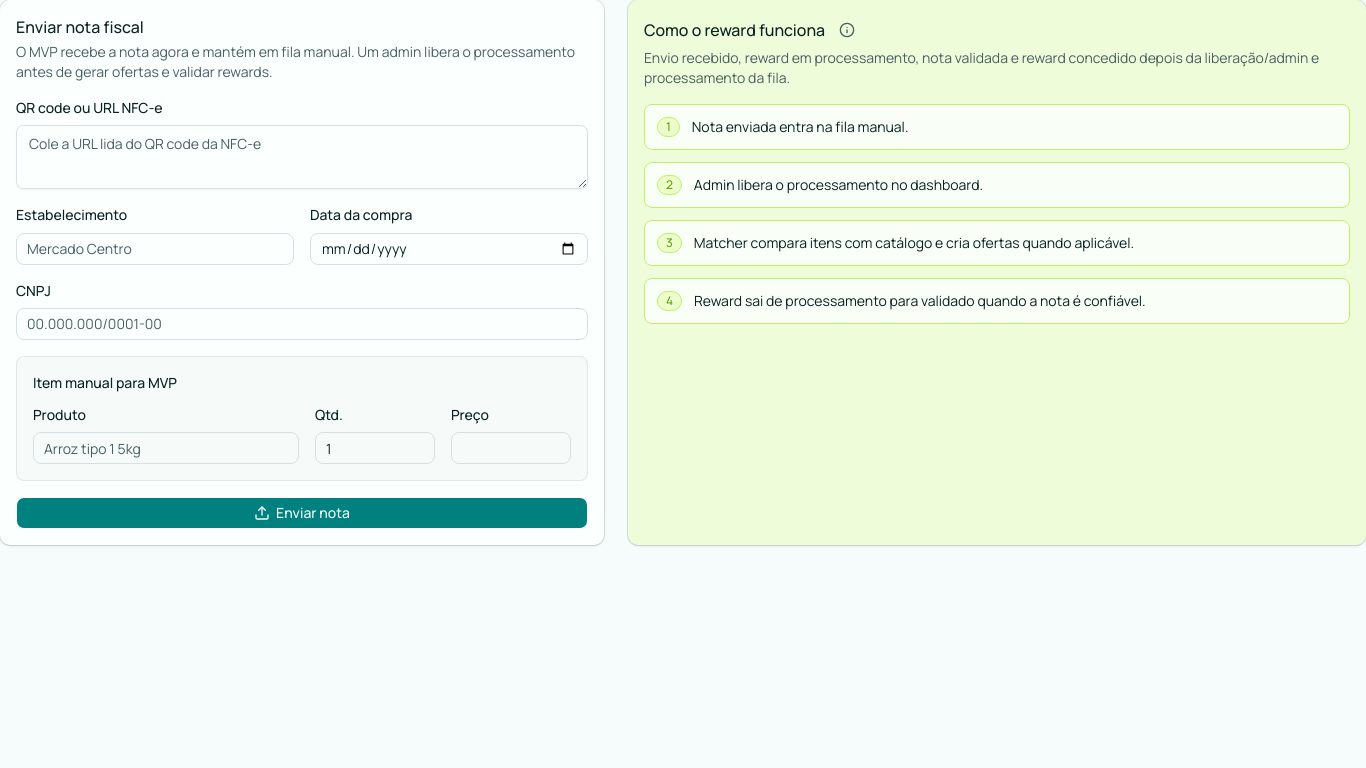
Test: public pages › shows granted receipt reward points and optimization credit
The width and height of the screenshot is (1366, 768).
Step 1. Type "Mercado Validado" into the field labelled "Estabelecimento" → (155, 248), box [16,232,294,264]
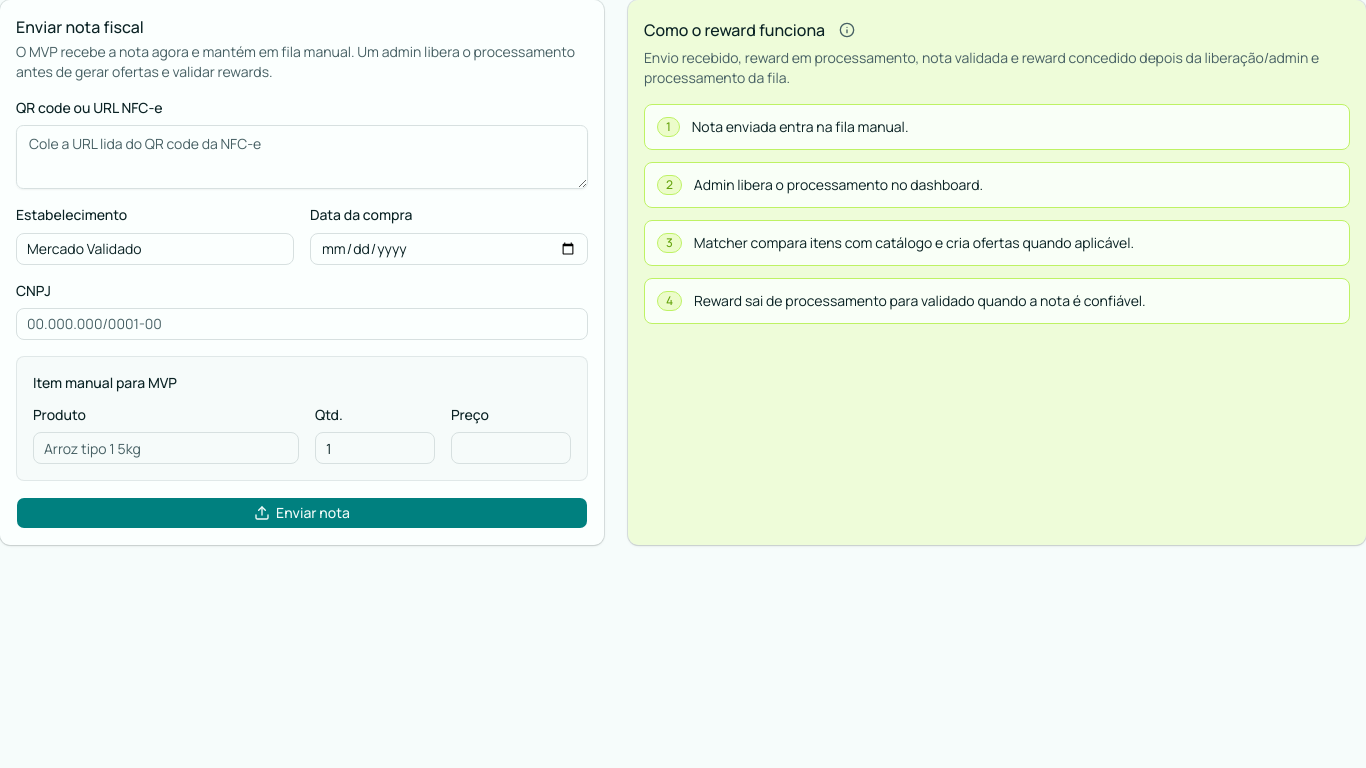
Step 2. Type "Cafe torrado" into the field labelled "Produto" → (166, 448), box [33,432,299,464]
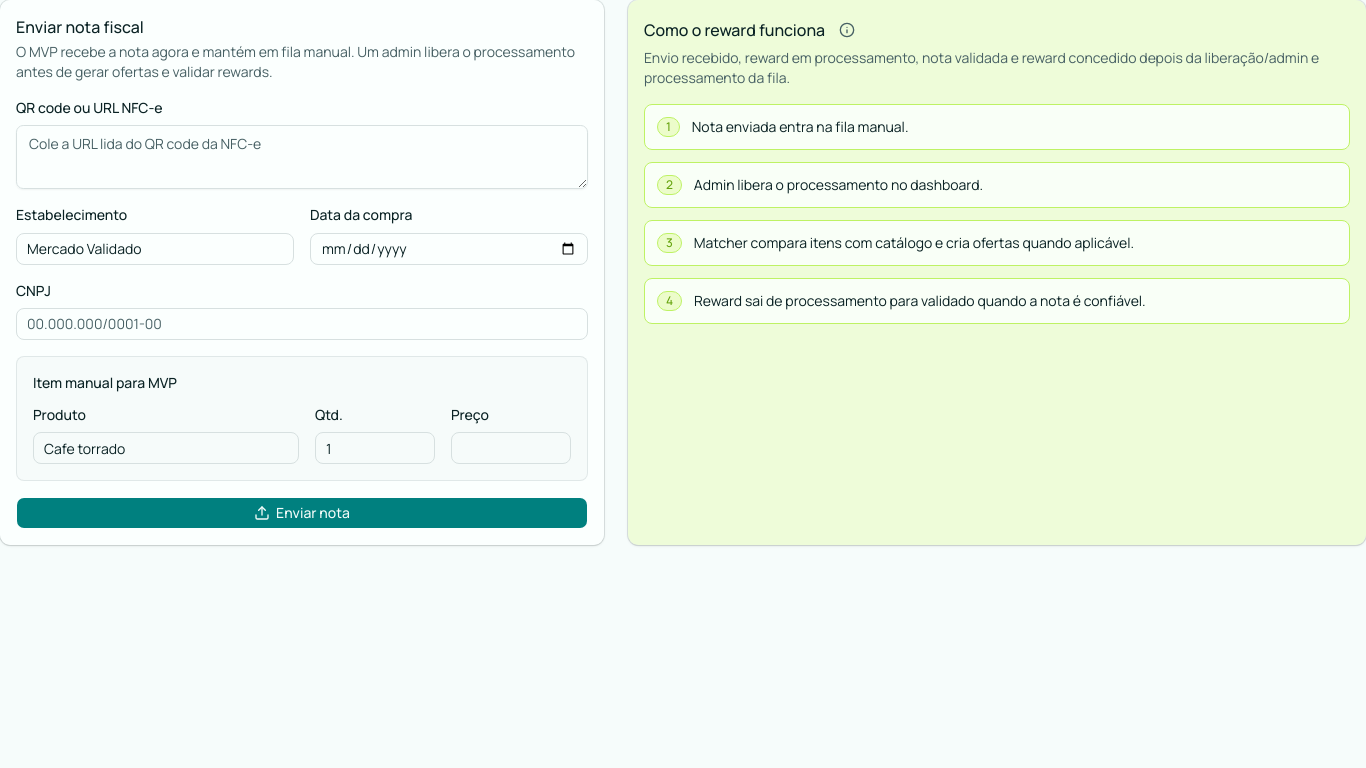
Step 3. Type "15.9" into the number field labelled "Preço" → (511, 448), box [451,432,571,464]
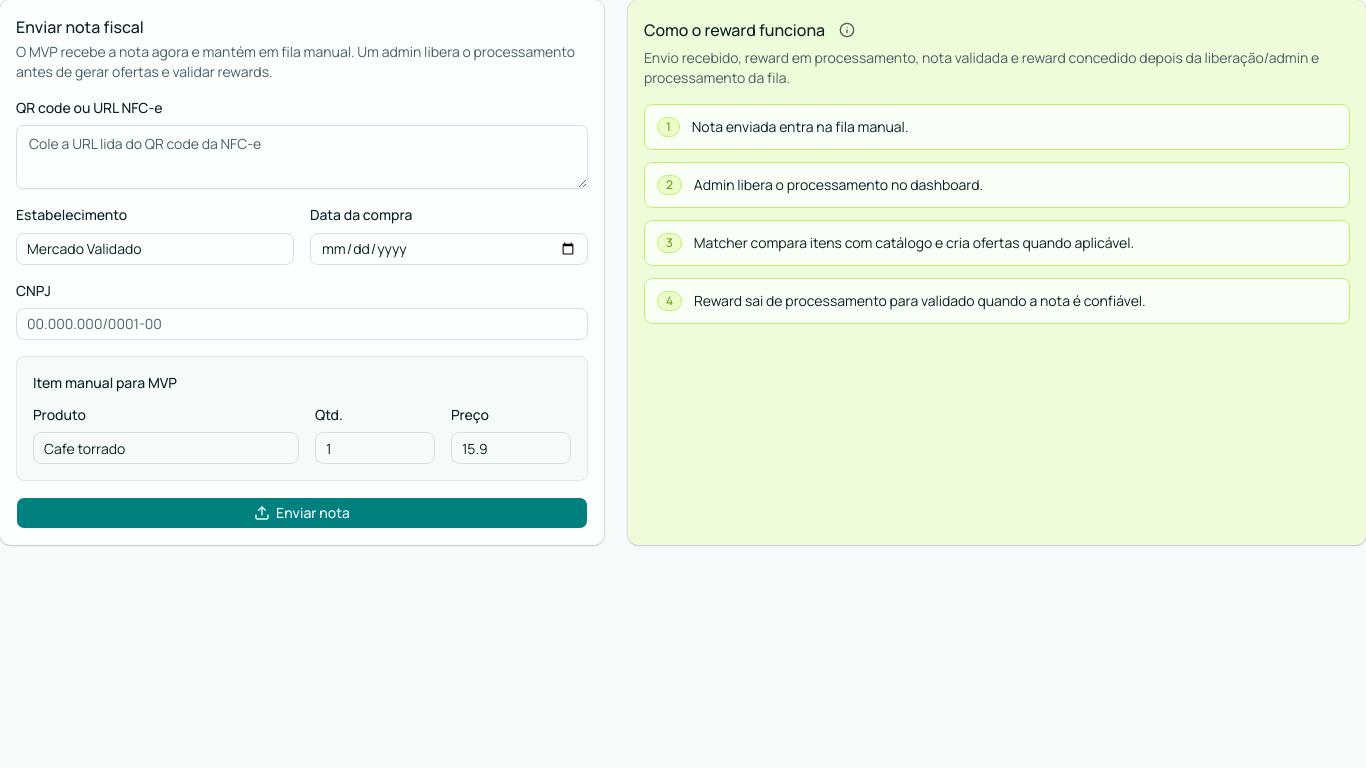
Step 4. Click the button "Enviar nota" → click(302, 513), box [16,497,588,529]
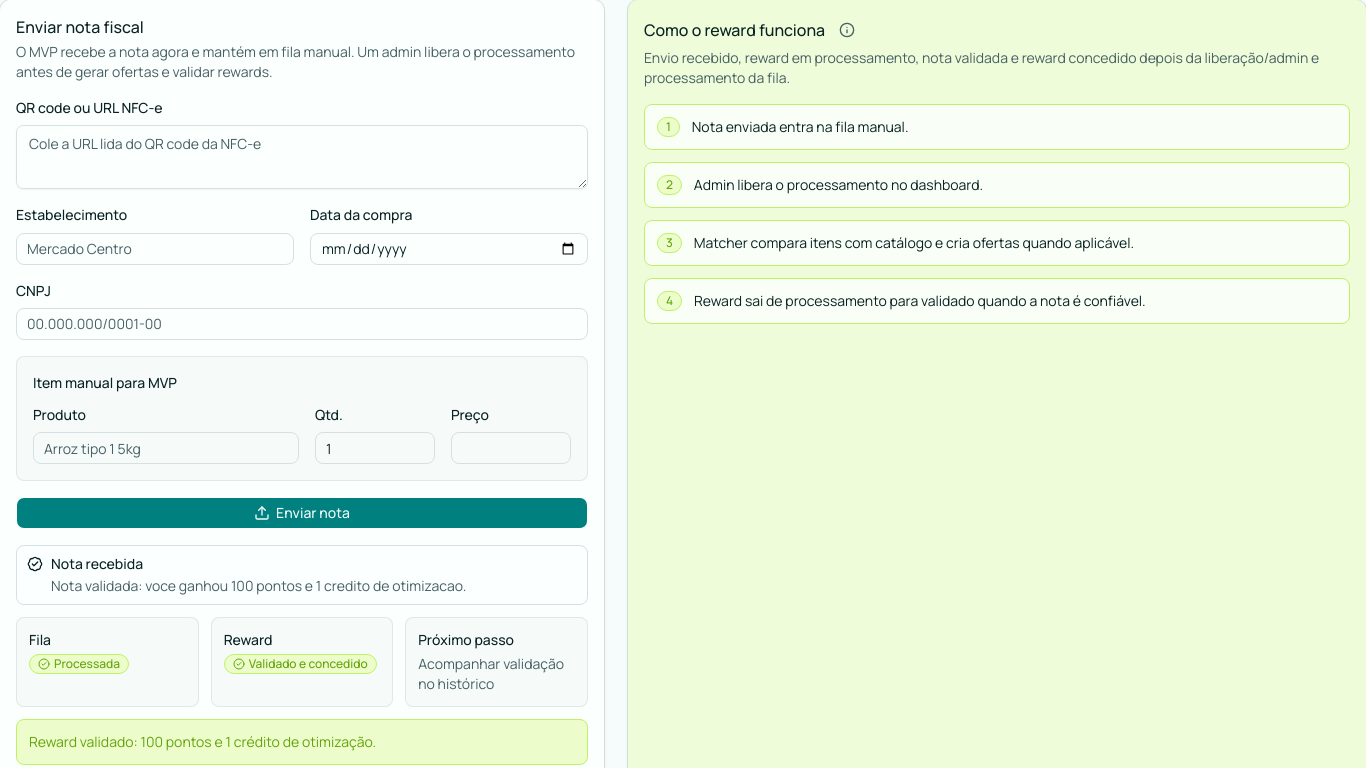
Now the text "Validado e concedido" is shown, box [224,654,377,674]
Now the text "Reward validado: 100 pontos e 1 crédito de otimização." is shown, box [16,719,588,765]
Now the text "100 pontos" is shown, box [51,576,466,595]
